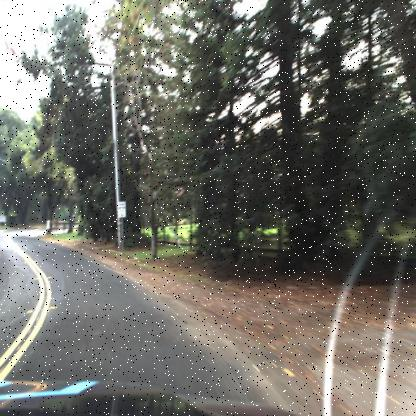car: (68, 212, 79, 228)
